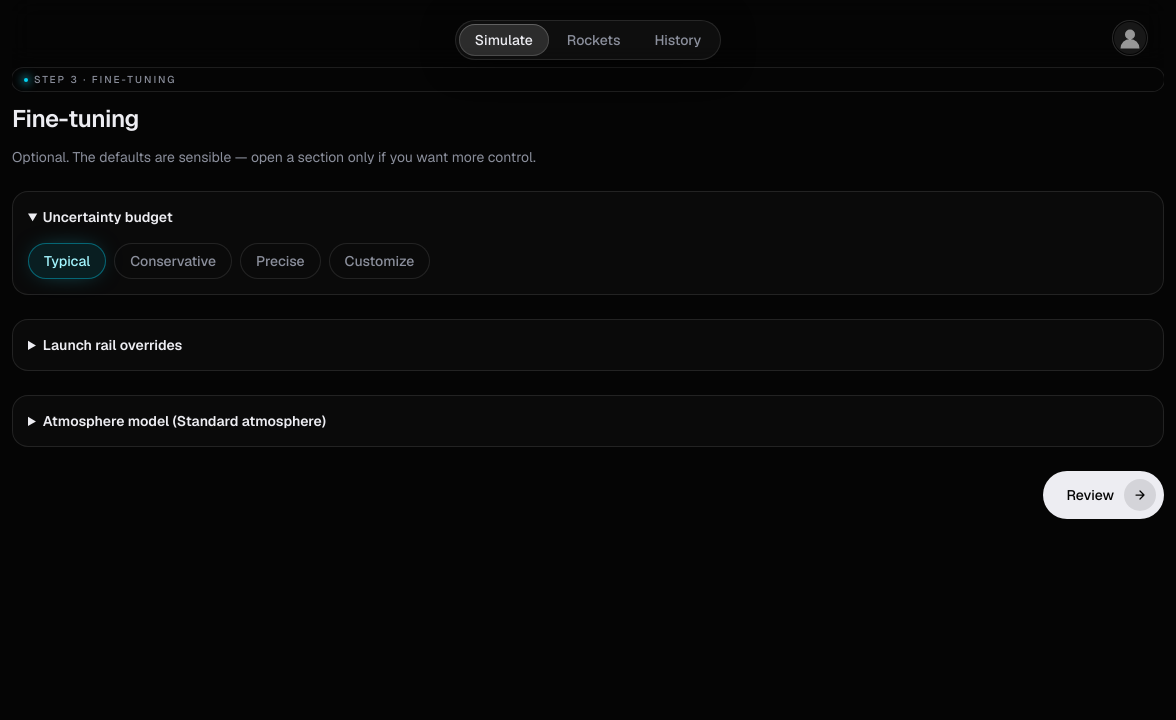
Test: AdvancedStep (issue #48 — server-state layer) › loads the scenario template and seeds the Typical uncertainty preset exactly once
Click the radio button "Customize" at [379, 261], box [329,243,430,279]
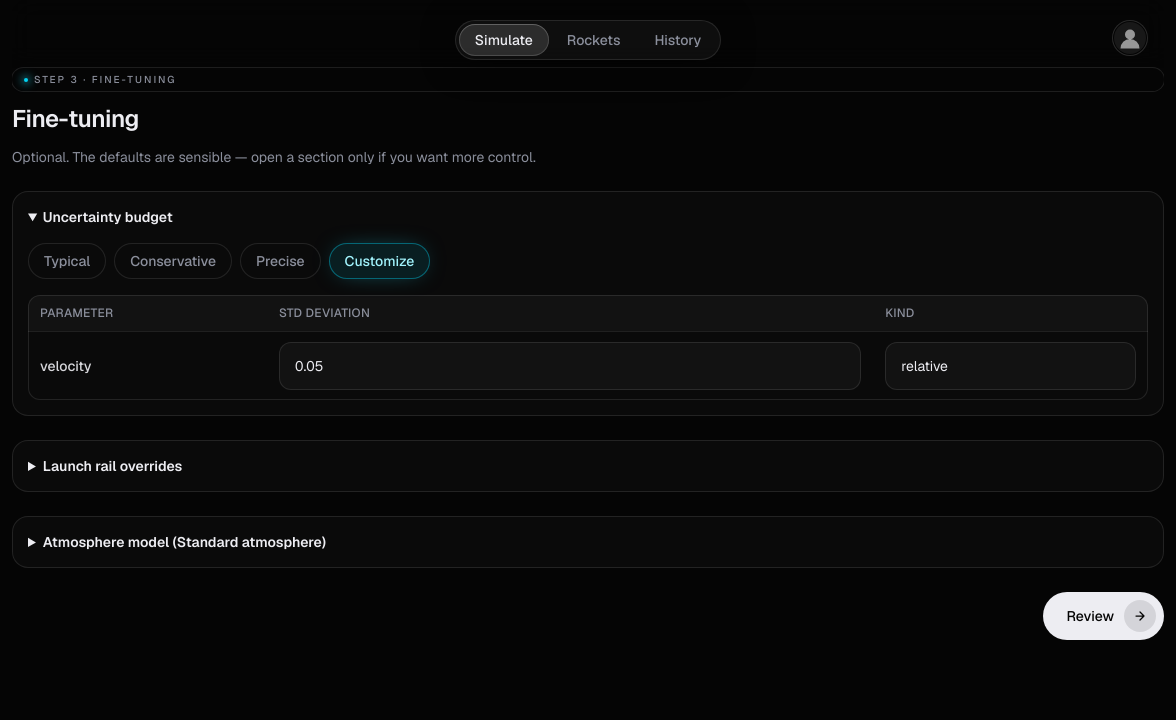
Check: the number field showing "0.05" is shown, box [279,342,861,390]
